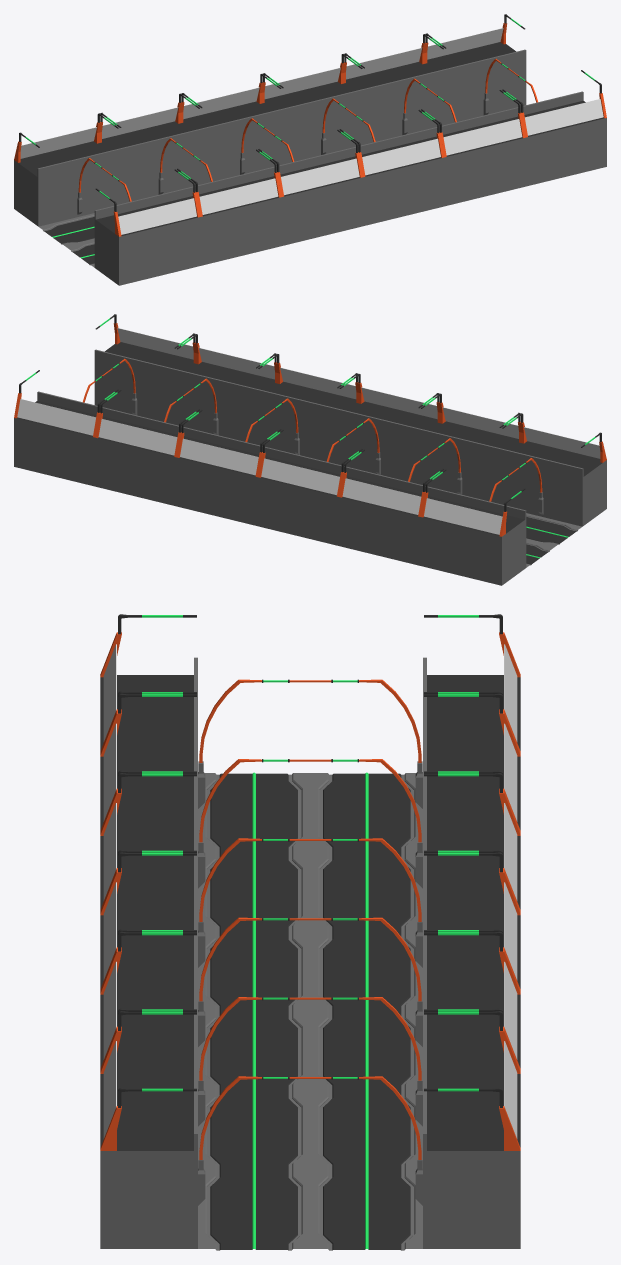
The model's file is Sci-Fi Bridge.fbx.
The picture shows the model from 3 angles, top to bottom: view 1: azimuth 30°, elevation 25°; view 2: azimuth 150°, elevation 25°; view 3: azimuth 270°, elevation 25°; orthographic projection. The views are drawn at different scales.
Visible parts, largest first — view 1: sci-fi bridge.001, sci-fi bridge; view 2: sci-fi bridge.001, sci-fi bridge; view 3: sci-fi bridge.001, sci-fi bridge.
Boxes of the visible parts, x1,y1,x2,y2 form: sci-fi bridge.001: (99,14,606,265); sci-fi bridge: (14,113,200,285); sci-fi bridge.001: (14,314,521,565); sci-fi bridge: (420,413,606,585); sci-fi bridge.001: (100,693,520,1250); sci-fi bridge: (100,614,520,853).
Bounding box in the file's own units: 6000 × 946 × 2240.
